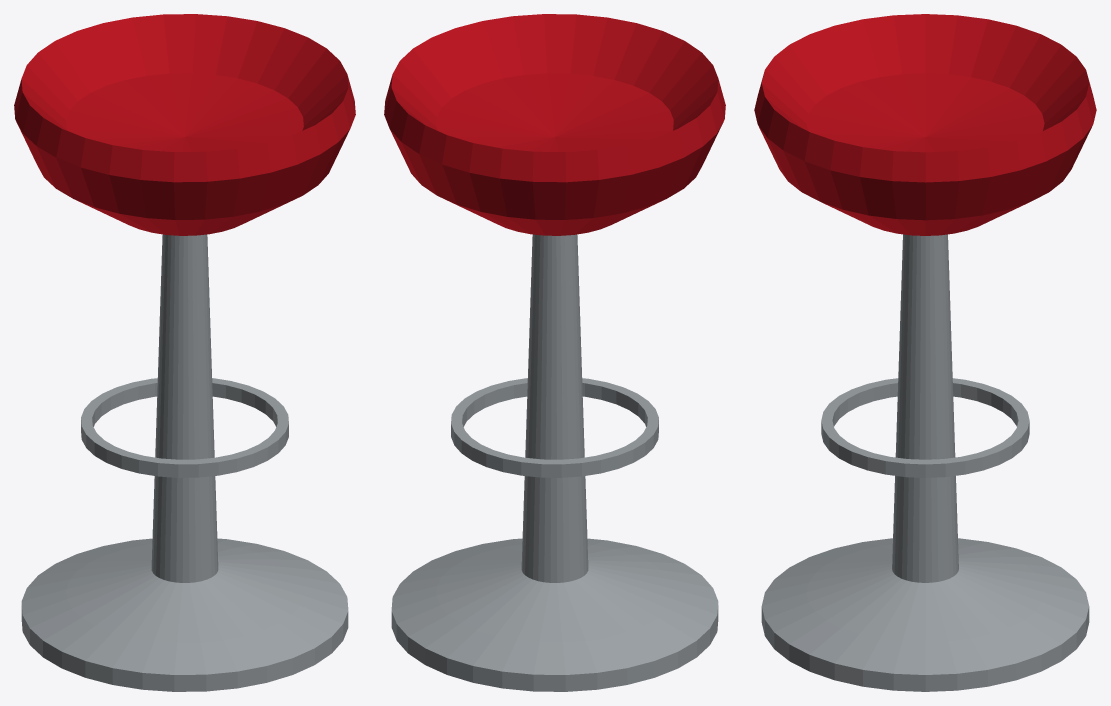
File: stool_bar.glb
The picture shows the model from 3 angles, left to right: view 1: azimuth 30°, elevation 25°; view 2: azimuth 150°, elevation 25°; view 3: azimuth 270°, elevation 25°; orthographic projection.
Visible parts, largest first — view 1: stool_bar; view 2: stool_bar; view 3: stool_bar.
Part boxes in pixels (<box>): stool_bar: <box>14,14,355,691</box>; stool_bar: <box>384,14,725,691</box>; stool_bar: <box>754,14,1096,691</box>.
Bounding box in the file's own units: 0.46 × 0.8 × 0.46.
